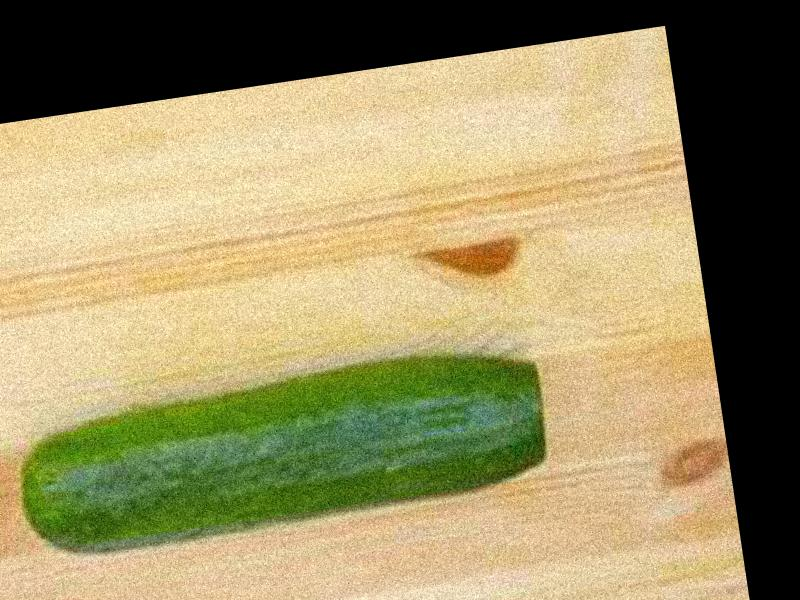Cucumber: (11, 344, 551, 562)
